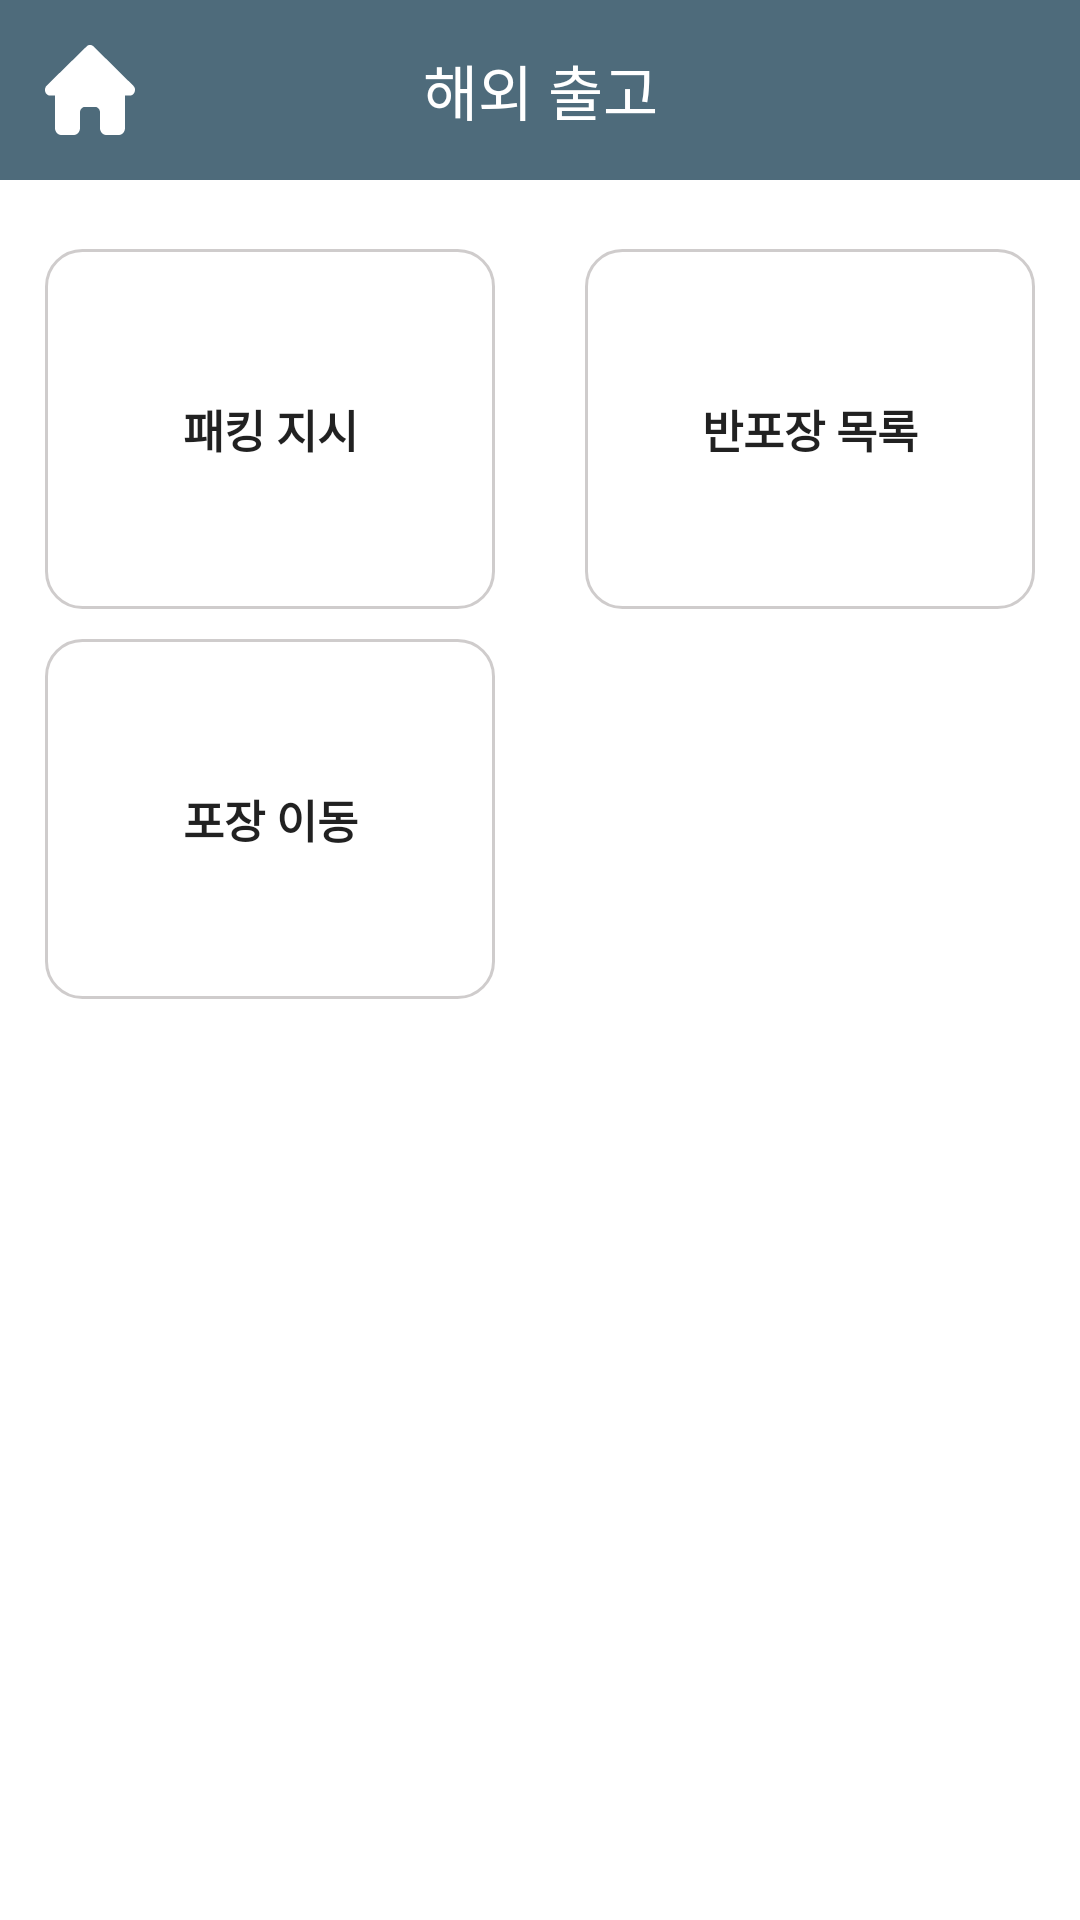

Icon bounding boxes for this 1080w x 1920h phone screenshot, format (x1, y1, x2, y2):
house: (45, 45, 135, 135)
